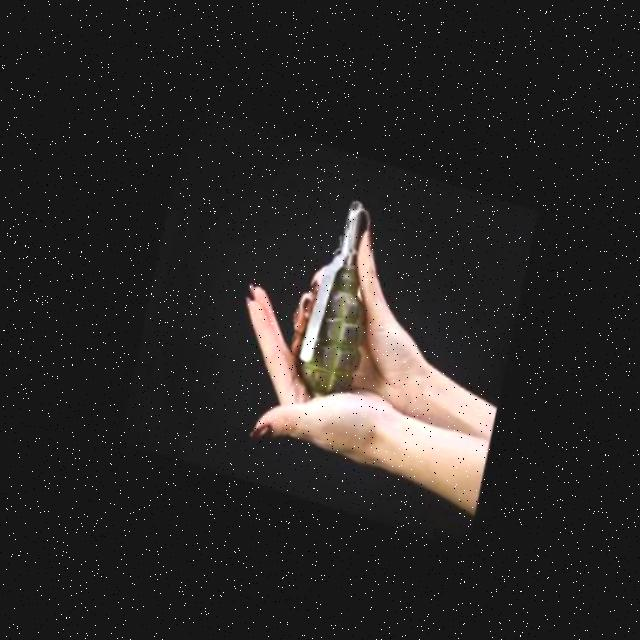grenade: (258, 175, 404, 410)
